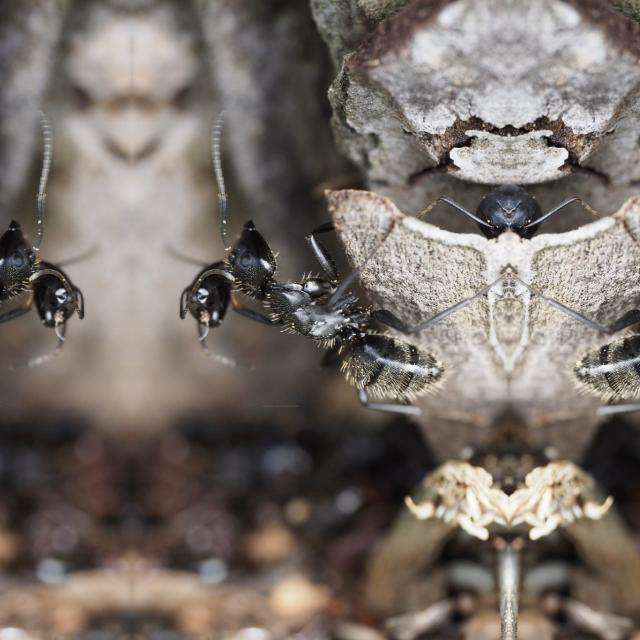Camponotus: (152, 162, 472, 458), (0, 160, 108, 457), (544, 160, 640, 458)
